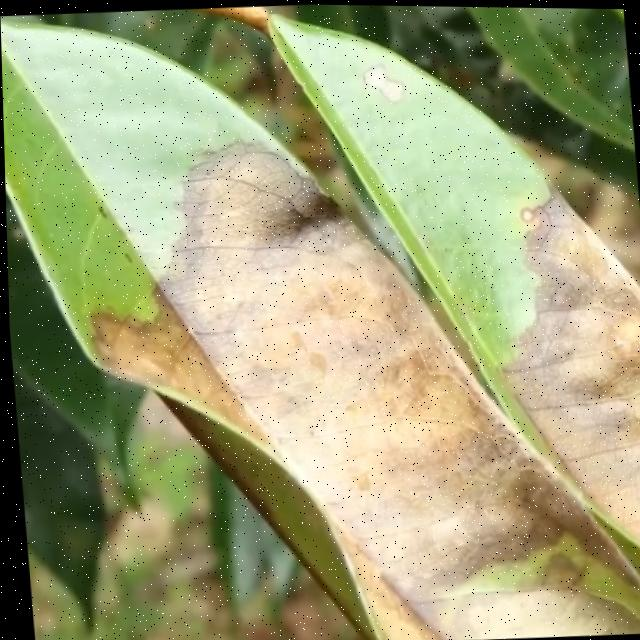Leaf_Blight: (22, 50, 640, 640)
